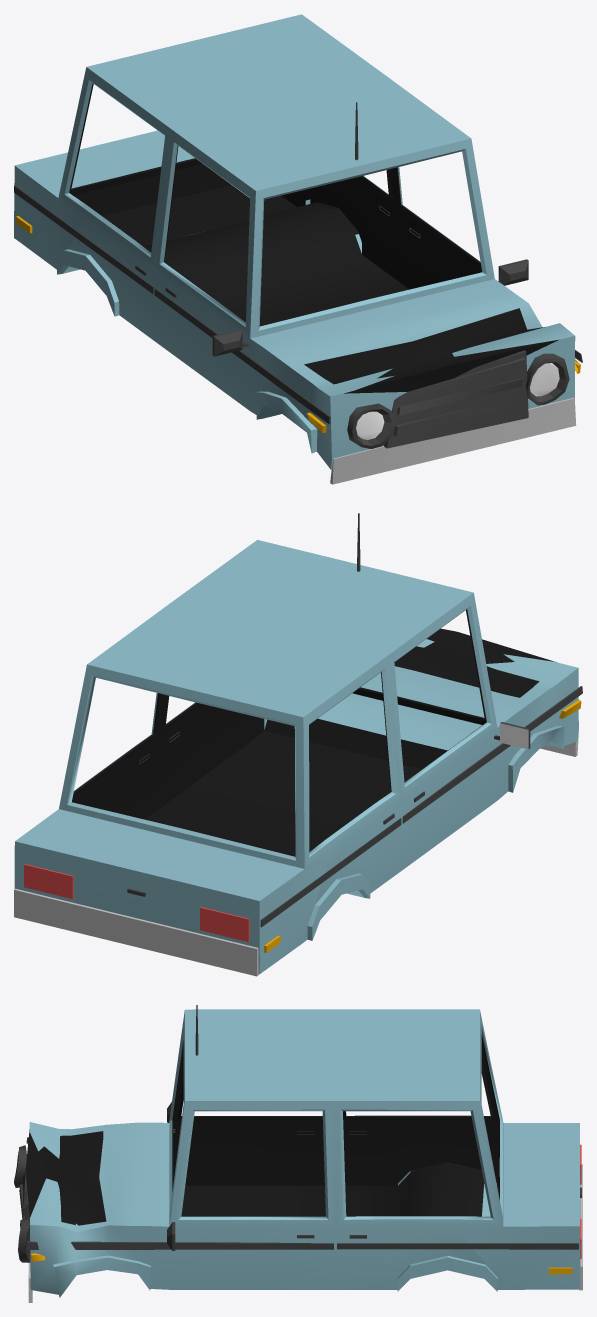
The model's file is CrashCar00.fbx.
3 renders of one model, top to bottom at view 1: azimuth 30°, elevation 25°; view 2: azimuth 150°, elevation 25°; view 3: azimuth 270°, elevation 25°, orthographic. The views are drawn at different scales.
Visible parts, largest first — view 1: MyHood; view 2: MyHood; view 3: MyHood.
Boxes of the visible parts, box(x1,y1,x2,y2) form: MyHood: box(14, 14, 582, 484); MyHood: box(14, 513, 582, 976); MyHood: box(14, 1005, 582, 1302).
Bounding box in the file's own units: 64.47 × 55.37 × 116.
